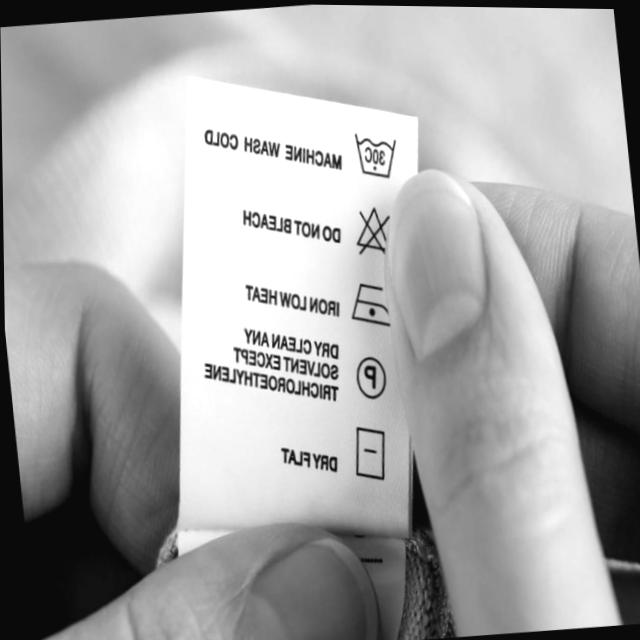30C: (352, 131, 403, 179)
DN_bleach: (352, 201, 393, 252)
dry_clean_any_solvent_except_trichloroethylene: (353, 355, 391, 404)
dry_flat: (356, 424, 390, 482)
iron_low: (350, 271, 388, 331)
